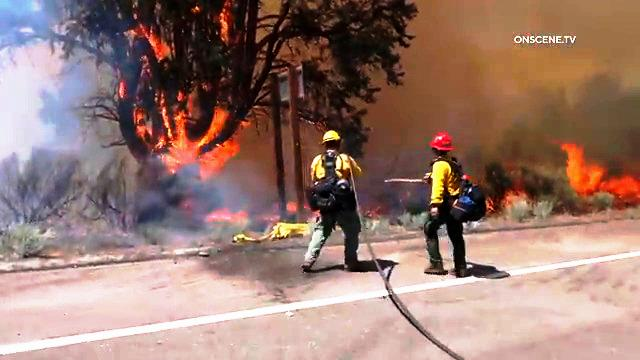fire: (114, 28, 229, 208), (534, 143, 640, 204)
smoke: (417, 0, 504, 135), (1, 100, 77, 155)
